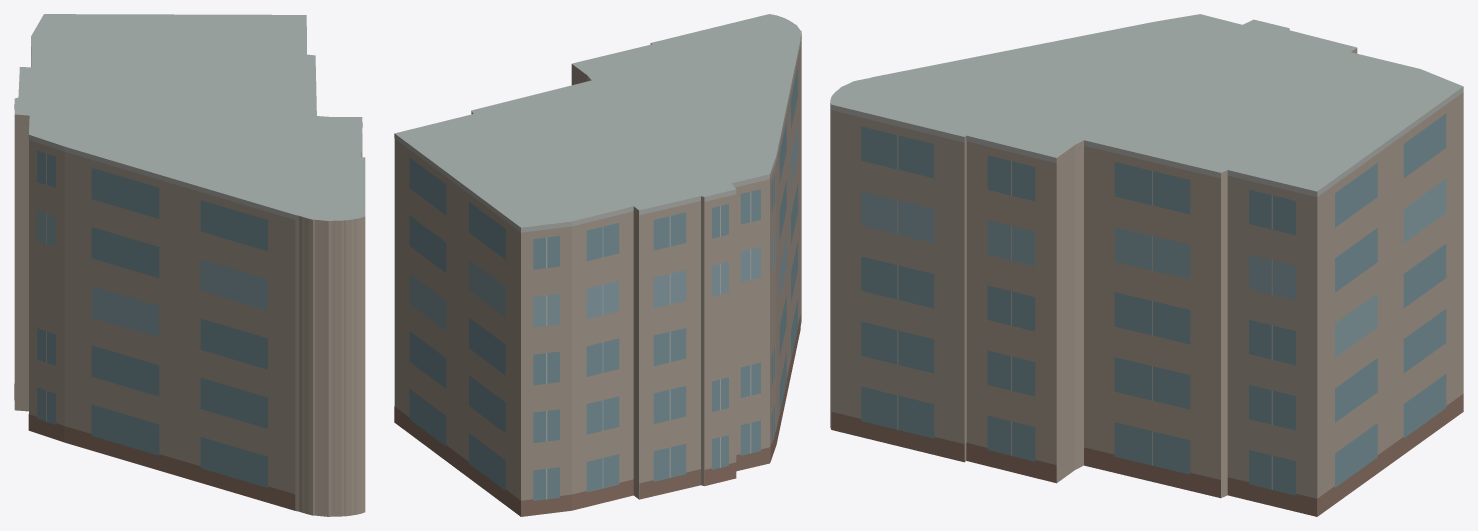
File: survey-upis-32658643.glb
The picture shows the model from 3 angles, left to right: view 1: azimuth 30°, elevation 25°; view 2: azimuth 150°, elevation 25°; view 3: azimuth 270°, elevation 25°; orthographic projection. The views are drawn at different scales.
Visible parts, largest first — view 1: survey-upis-32658643.tmp; view 2: survey-upis-32658643.tmp; view 3: survey-upis-32658643.tmp.
Boxes of the visible parts, x1,y1,x2,y2 form: survey-upis-32658643.tmp: (14,14,365,516); survey-upis-32658643.tmp: (394,14,801,516); survey-upis-32658643.tmp: (830,14,1463,516).
Bounding box in the file's own units: 16.76 × 14.3 × 25.24.
